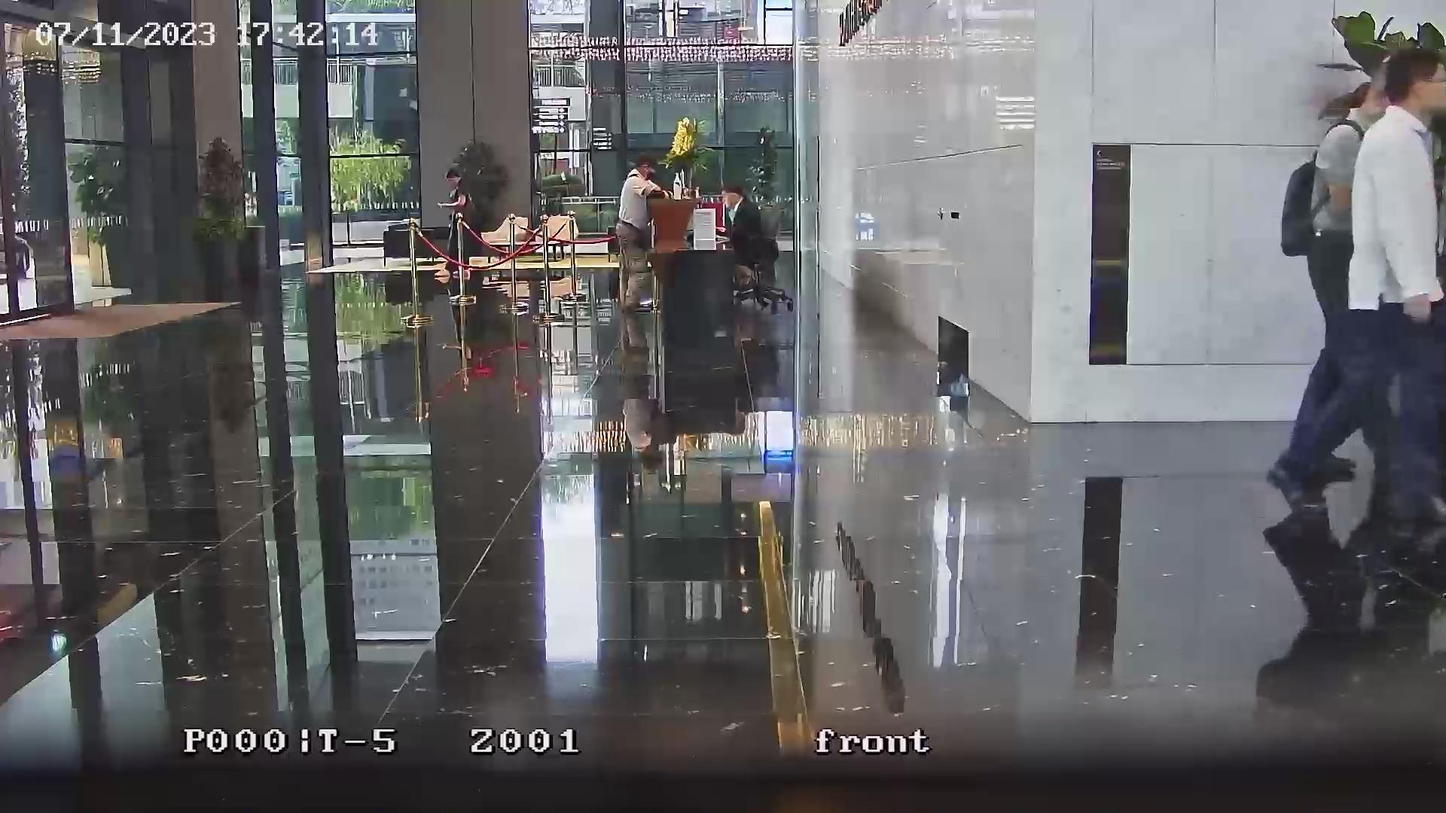person: (1299, 54, 1445, 537), (1267, 78, 1383, 503), (1344, 52, 1445, 532), (617, 156, 670, 313), (719, 181, 768, 288), (437, 168, 471, 278)
